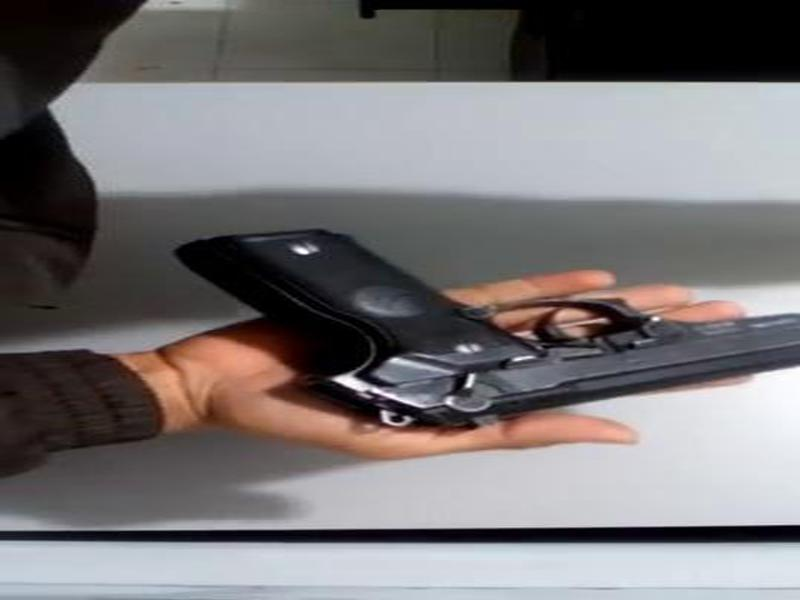Pistola: (162, 195, 800, 457)
